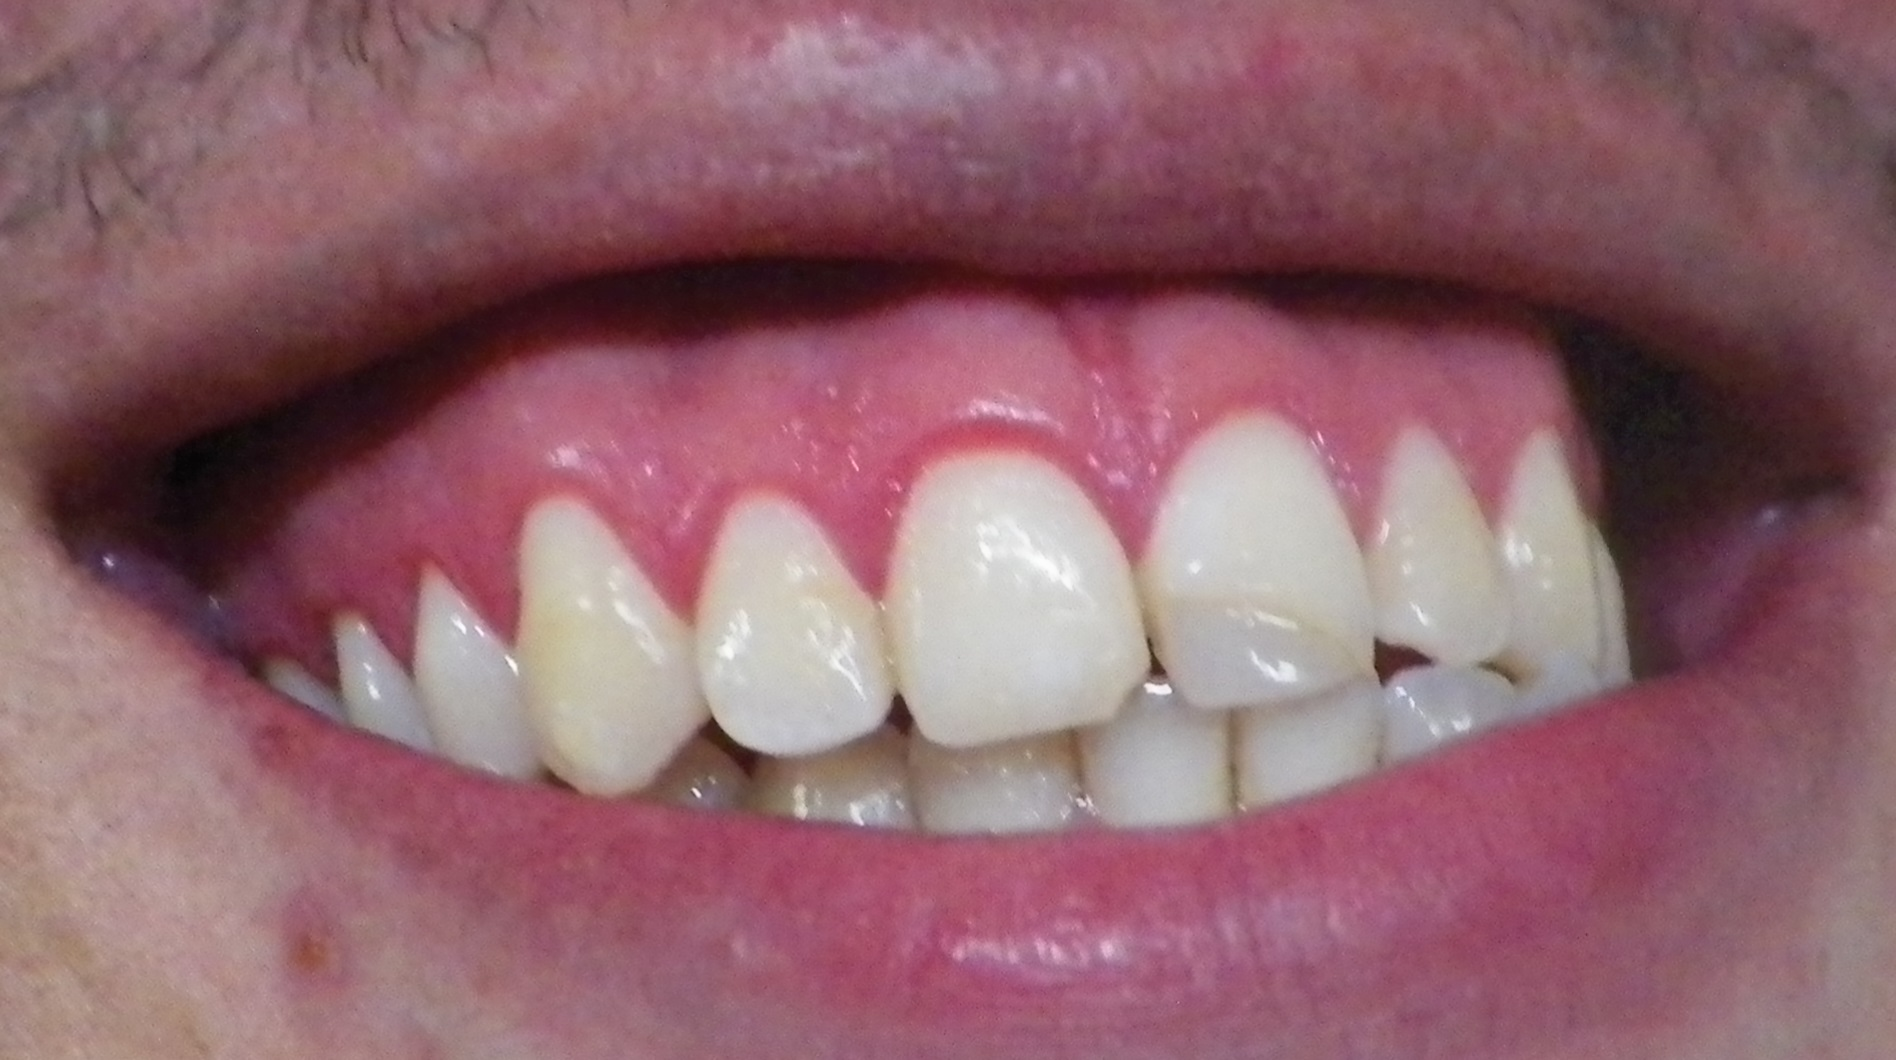boca: (247, 427, 1667, 833)
